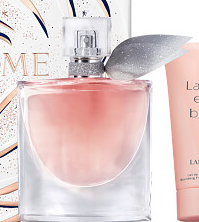lancome_la_vie_est_belle: (15, 14, 192, 222)
